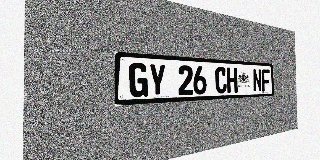2: (178, 65, 193, 95)
6: (193, 66, 207, 95)
C: (215, 67, 227, 94)
F: (261, 69, 270, 92)
G: (129, 62, 148, 98)
H: (227, 67, 238, 93)
N: (253, 69, 262, 92)
Y: (149, 63, 166, 97)
